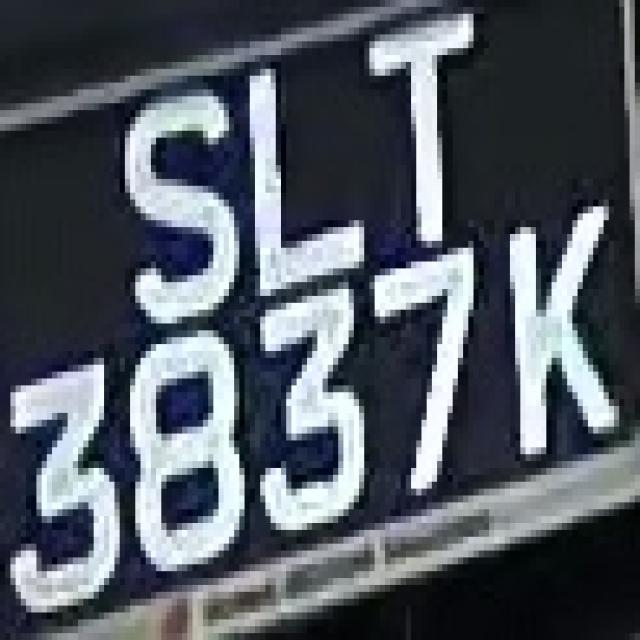3: (244, 282, 374, 544), (16, 351, 130, 619)
7: (370, 234, 489, 516)
8: (125, 310, 260, 592)
K: (489, 172, 619, 496)
L: (240, 55, 370, 310)
S: (104, 69, 239, 337)
T: (349, 28, 489, 227)
